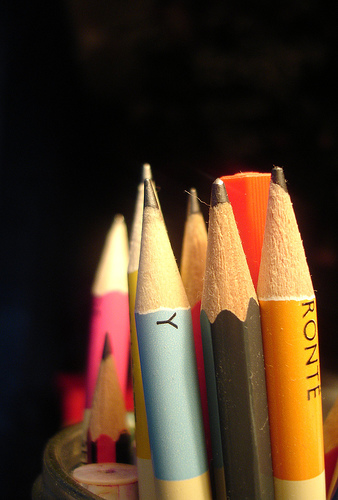pen_tip: (254, 148, 321, 323), (193, 175, 259, 340), (125, 175, 193, 333)
